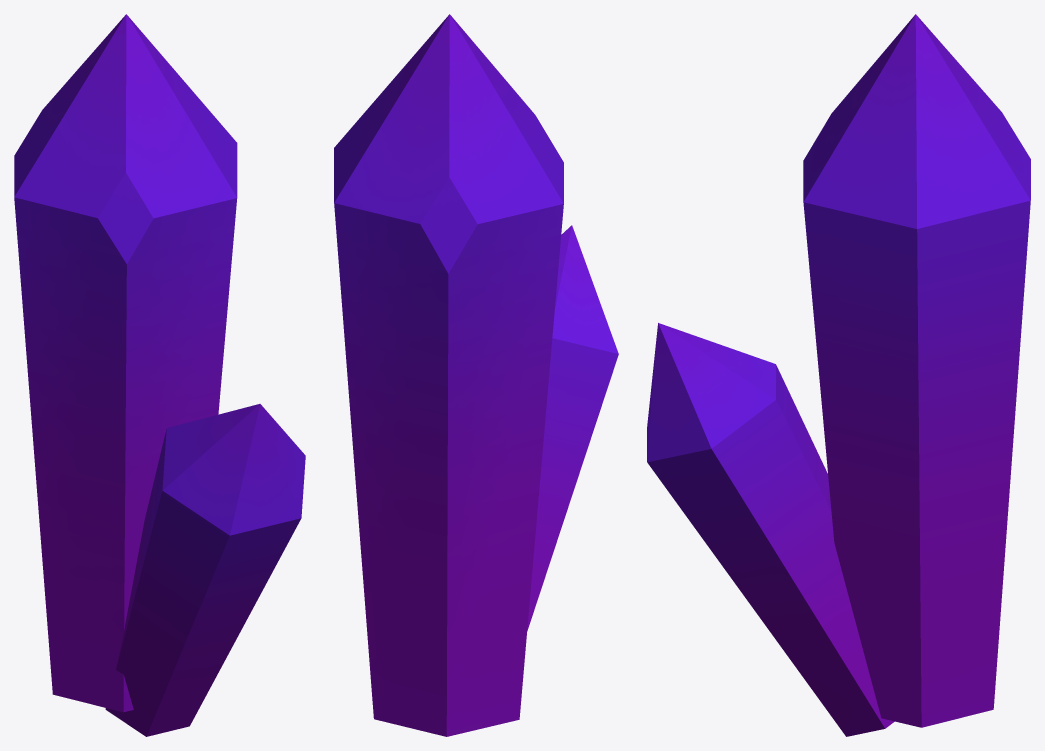
Rendered from crystal_03.fbx.
3 views of the same model, side by side, from view 1: azimuth 30°, elevation 25°; view 2: azimuth 150°, elevation 25°; view 3: azimuth 270°, elevation 25° (orthographic). The views are drawn at different scales.
Visible parts, largest first — view 1: pCylinder13, pCylinder14; view 2: pCylinder13, pCylinder14; view 3: pCylinder13, pCylinder14.
Boxes of the visible parts, bbox=[...] form: pCylinder13: bbox=[14, 14, 237, 712]; pCylinder14: bbox=[105, 404, 305, 736]; pCylinder13: bbox=[334, 14, 563, 736]; pCylinder14: bbox=[527, 225, 618, 630]; pCylinder13: bbox=[803, 14, 1030, 727]; pCylinder14: bbox=[647, 323, 894, 736].
Size of the model in its own units: 0.5787 by 1.72 by 0.8456.
